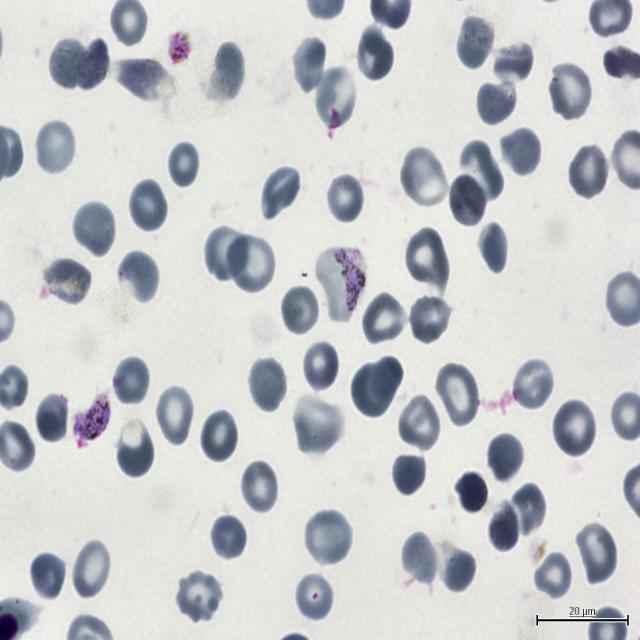red blood cell: (292, 394, 344, 457), (434, 362, 482, 429), (456, 140, 504, 207), (226, 232, 276, 294), (401, 147, 450, 209), (314, 65, 359, 132), (404, 226, 451, 290), (574, 520, 619, 586), (551, 396, 598, 459), (70, 200, 118, 259), (396, 392, 442, 453), (203, 222, 250, 281), (548, 60, 592, 122), (114, 418, 157, 481), (176, 569, 224, 625), (154, 383, 195, 448), (70, 538, 112, 601), (306, 509, 352, 566), (361, 290, 407, 347), (34, 118, 78, 175), (48, 36, 96, 88), (510, 357, 555, 412), (350, 364, 394, 420), (116, 248, 160, 304), (568, 142, 610, 200), (246, 356, 288, 414), (454, 13, 496, 71), (127, 177, 169, 234), (260, 163, 302, 220), (408, 292, 452, 346), (498, 124, 542, 178), (447, 172, 488, 229), (354, 26, 394, 84), (116, 59, 166, 105), (239, 458, 280, 514), (199, 409, 240, 464), (474, 77, 518, 128), (290, 34, 327, 94), (294, 570, 335, 624), (44, 260, 92, 306), (506, 479, 546, 534), (300, 338, 340, 392), (280, 283, 320, 337), (533, 549, 574, 601), (476, 220, 512, 278), (438, 541, 476, 595), (208, 512, 248, 563), (325, 172, 365, 223), (112, 354, 150, 407), (486, 431, 524, 484), (34, 392, 72, 445), (491, 38, 534, 84), (211, 42, 244, 101), (164, 138, 202, 189), (487, 501, 522, 556), (28, 550, 66, 600), (389, 449, 427, 498), (400, 531, 437, 580), (76, 37, 109, 88), (367, 356, 403, 402), (456, 474, 492, 514)
trophozoite: (316, 245, 364, 322), (74, 392, 110, 442)
